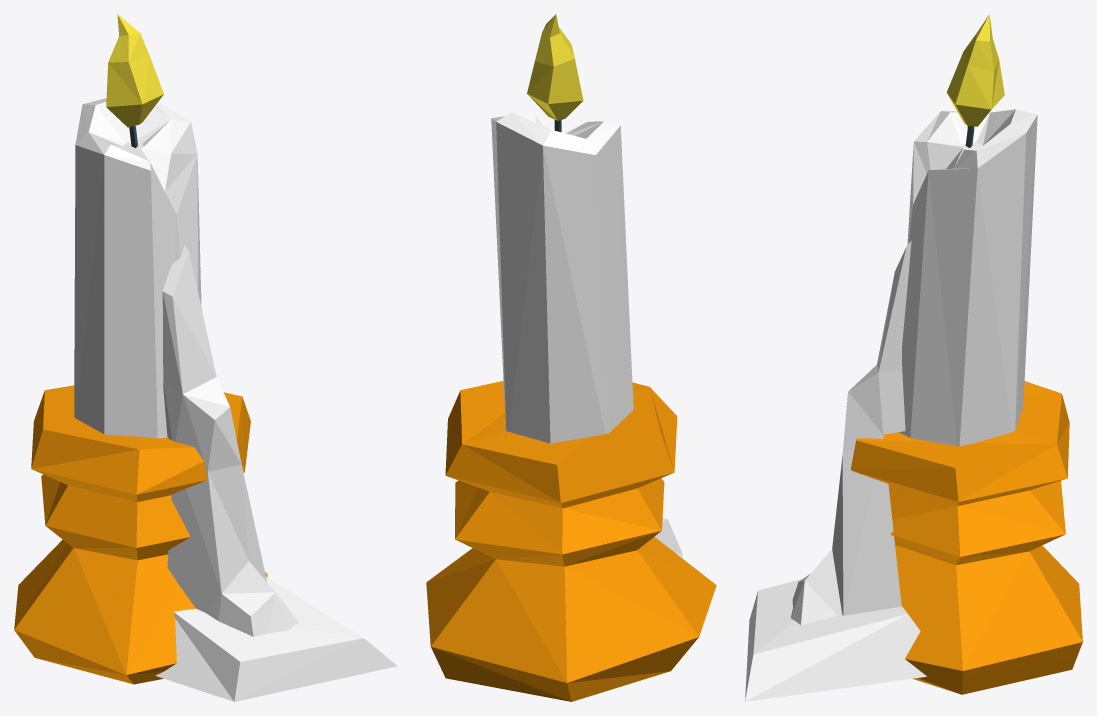
The model's file is Candle.001.fbx.
The picture shows the model from 3 angles, left to right: view 1: azimuth 30°, elevation 25°; view 2: azimuth 150°, elevation 25°; view 3: azimuth 270°, elevation 25°; orthographic projection. The views are drawn at different scales.
Parts seen in each view (by area): view 1: Candle.001; view 2: Candle.001; view 3: Candle.001.
Part boxes in pixels (x1,y1,x2,y2): Candle.001: (14, 14, 397, 701); Candle.001: (426, 14, 716, 701); Candle.001: (745, 14, 1082, 701).
Bounding box in the file's own units: 0.2035 × 0.43 × 0.211.
